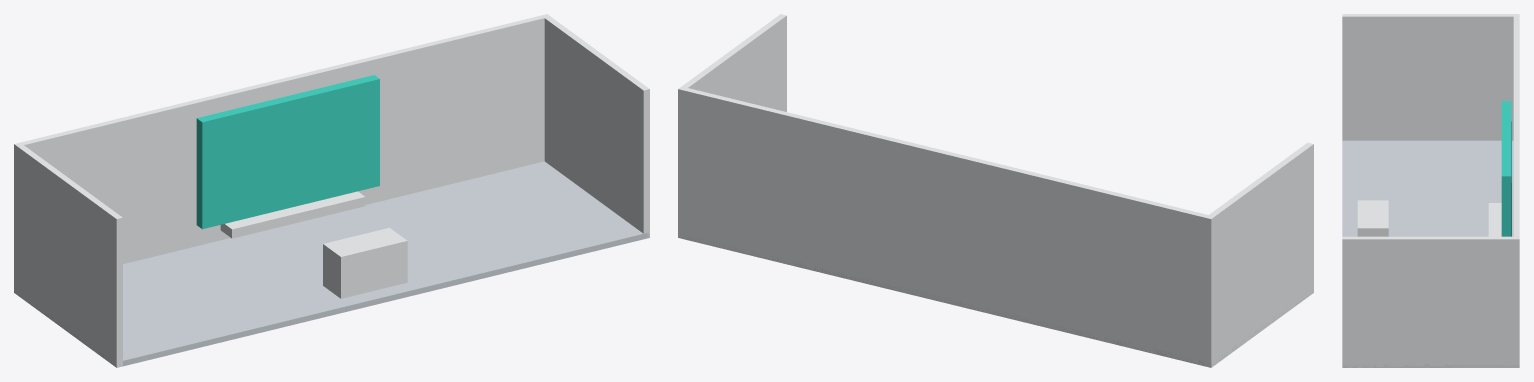
3 views of the same model, side by side, from view 1: azimuth 30°, elevation 25°; view 2: azimuth 150°, elevation 25°; view 3: azimuth 270°, elevation 25° (orthographic). The views are drawn at different scales.
Visible parts, largest first — view 1: Exhibition Booth Concept; view 2: Exhibition Booth Concept; view 3: Exhibition Booth Concept.
Part boxes in pixels (box(x1,y1,x2,y2)): Exhibition Booth Concept: box(14, 14, 649, 367); Exhibition Booth Concept: box(678, 14, 1313, 367); Exhibition Booth Concept: box(1342, 14, 1519, 367).
Bounding box in the file's own units: 12 × 3.2 × 4.
